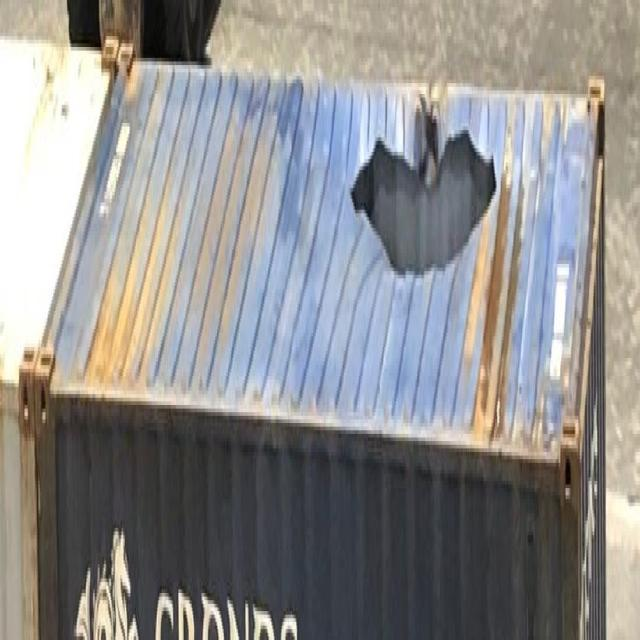hole: (349, 127, 502, 283)
